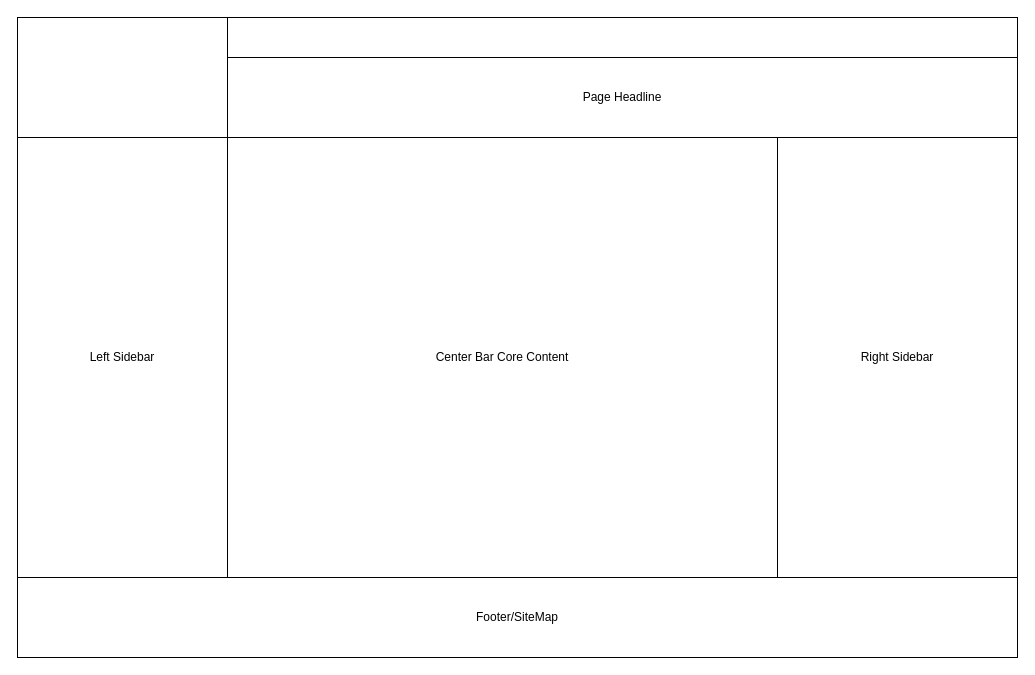
Image size: 1035x675. Some labels were removed from this diagram. Here are the shapes that lost their labels. From the top down, the centre of each, then its label:
point 622,37: Navigation Panel
point 122,77: LOGO
